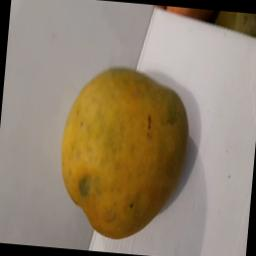Mango Ripe: (48, 56, 196, 240)
